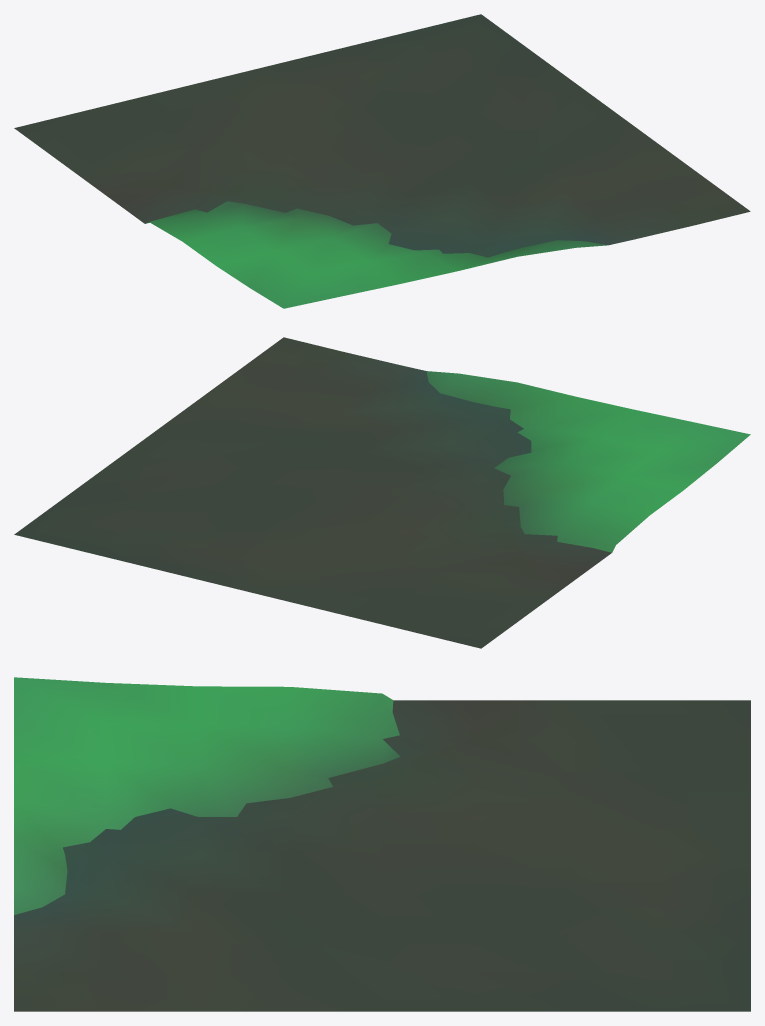
Rendered from LevelA4.fbx.
The picture shows the model from 3 angles, top to bottom: view 1: azimuth 30°, elevation 25°; view 2: azimuth 150°, elevation 25°; view 3: azimuth 270°, elevation 25°; orthographic projection. The views are drawn at different scales.
Parts seen in each view (by area): view 1: GroundA4; view 2: GroundA4; view 3: GroundA4.
Part boxes in pixels (<box>): GroundA4: <box>14,14,750,308</box>; GroundA4: <box>14,337,750,648</box>; GroundA4: <box>14,677,750,1011</box>.
Bounding box in the file's own units: 9057 × 311 × 9057.
